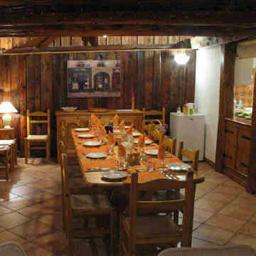Electrodomestico: (169, 115, 205, 165)
Puerta: (222, 48, 255, 187)
